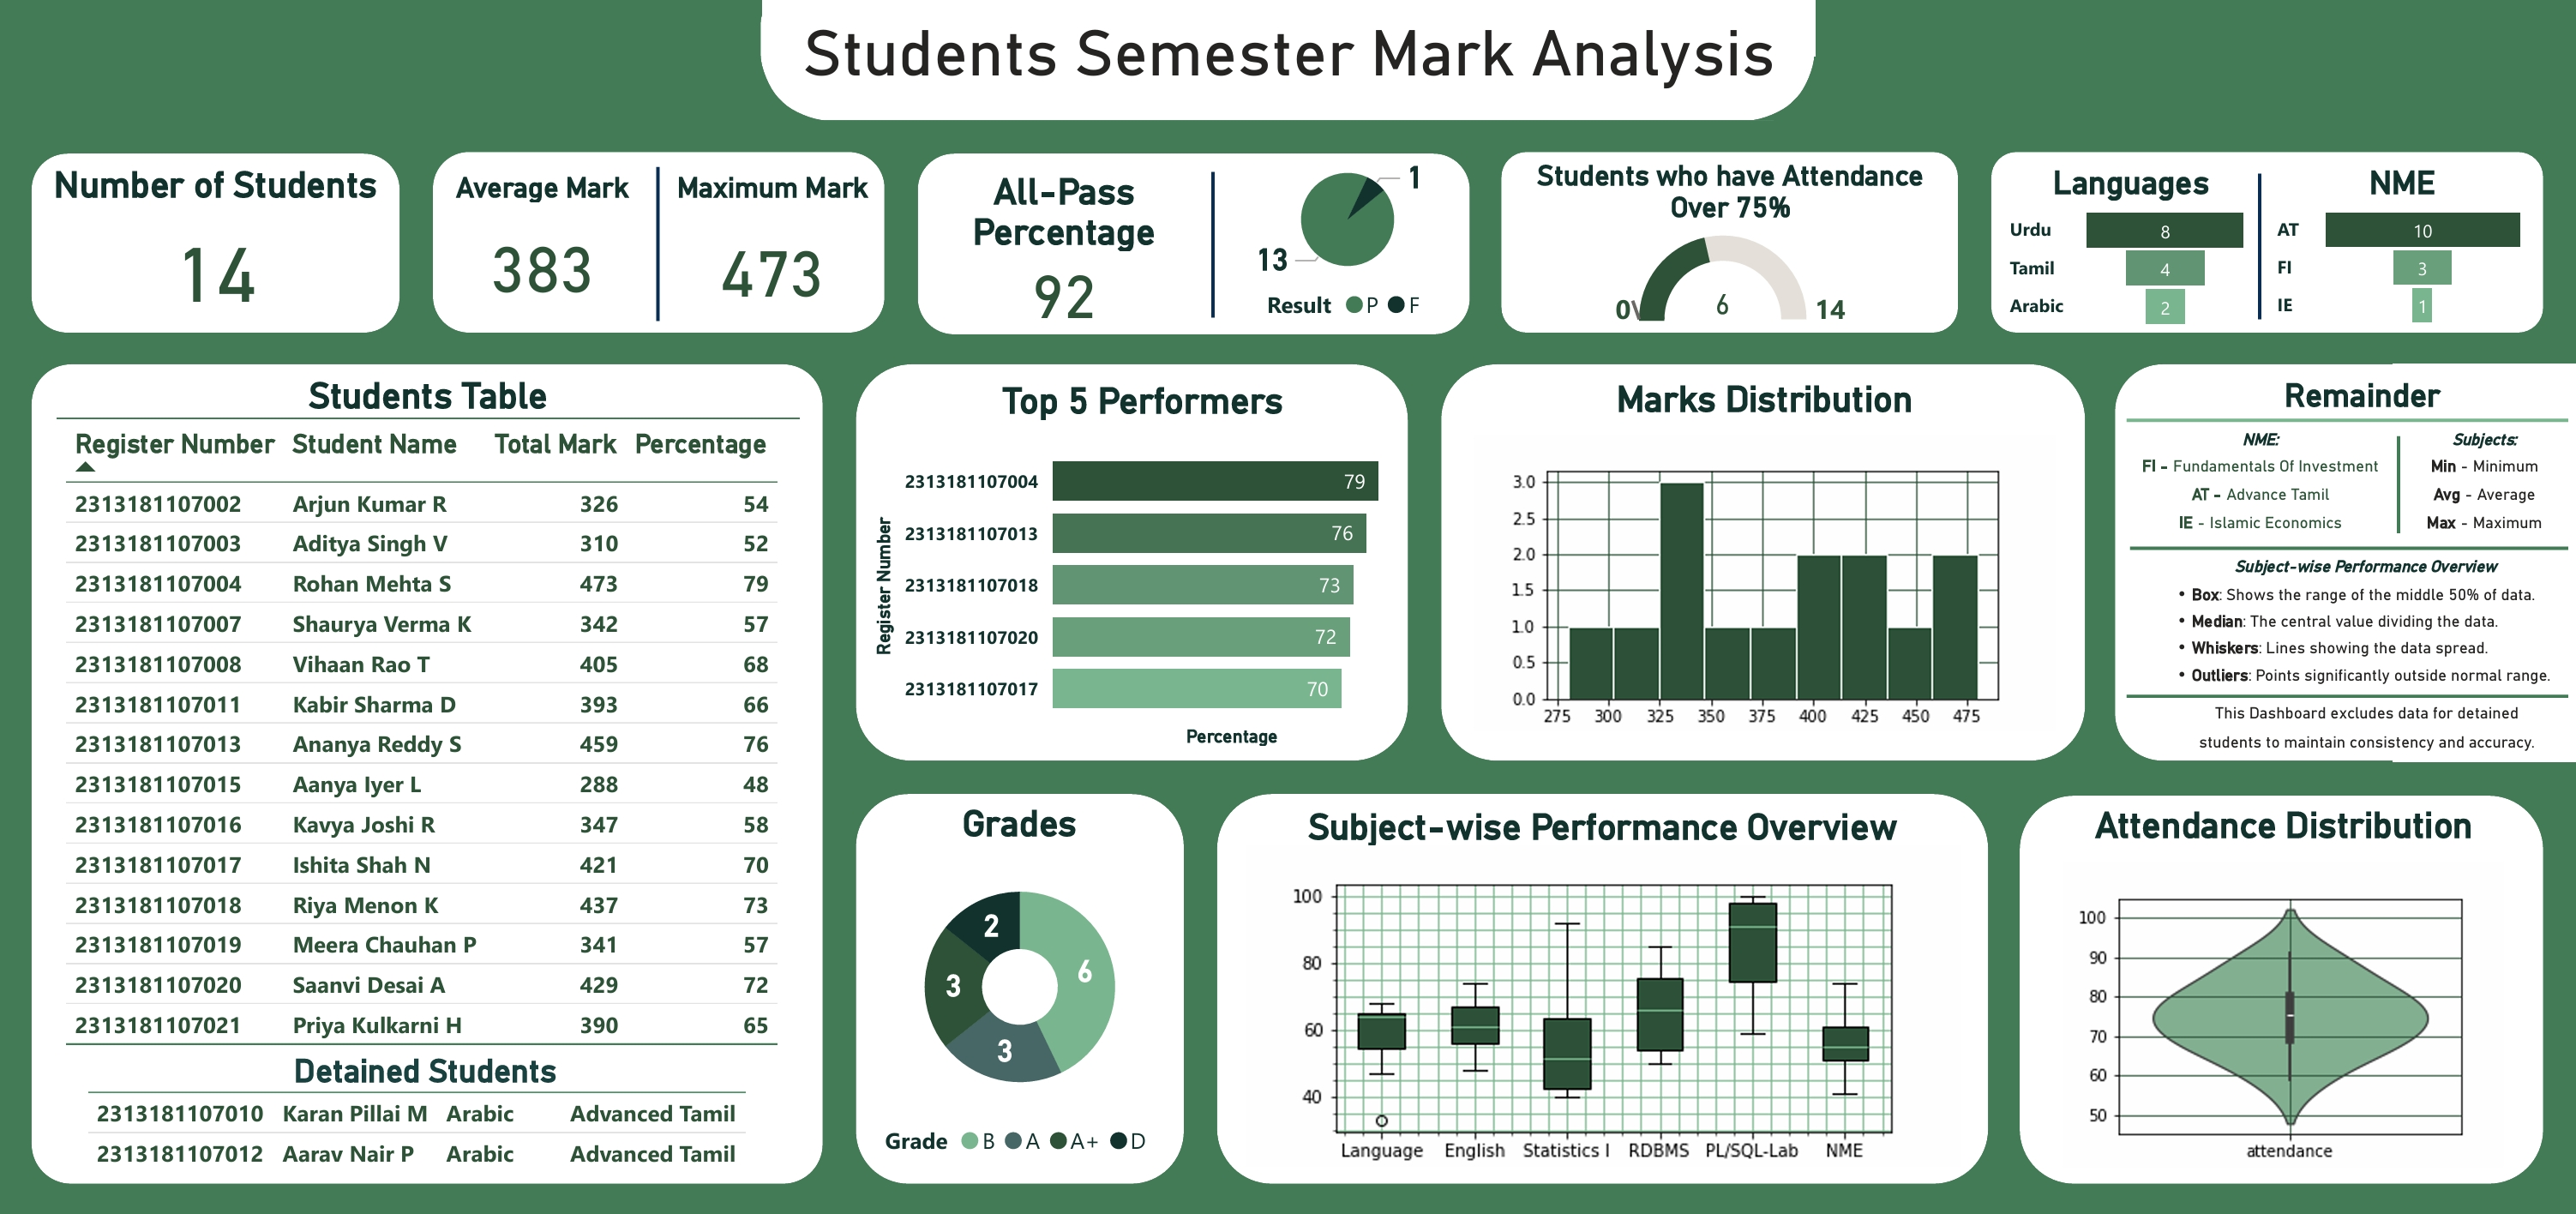

The dashboard page shown, as its layout file describes it:
{"tool":"powerbi","page":{"name":"Page 1","canvas":[1543,730],"ordinal":0},"visuals":[{"type":"gauge","title":"Students who have Attendance Over 75%","fields":{"Y":["mod_std_marks_ds_II.Students_Over_75"]},"box":[898.8,96.2,273.8,106.2],"z":0,"group":"g10"},{"type":"card","title":"Number of Students","fields":{"Values":["CountNonNull(mod_std_marks_ds_II.reg_no)"]},"box":[20.2,99,220,102.5],"z":0,"group":"g13"},{"type":"shape","box":[333.8,100,121.2,93.8],"z":0,"group":"g12"},{"type":"shape","box":[628.7,102.8,195,88.8],"z":0,"group":"g11"},{"type":"shape","box":[1255,103.8,193.8,88.8],"z":0,"group":"g9"},{"type":"tableEx","title":"Students Table","fields":{"Values":["mod_std_marks_ds_II.reg_no","mod_std_marks_ds_II.std_name","Sum(mod_std_marks_ds_II.total_mark)","Sum(mod_std_marks_ds_II.percent)"]},"box":[35,225,443.8,428],"z":0,"group":"g8"},{"type":"pythonVisual","title":"Marks Distribution","fields":{"Values":["mod_std_marks_ds_II.total_mark"]},"box":[860.5,227,387.5,221.2],"z":0,"group":"g5"},{"type":"clusteredBarChart","title":"Top 5 Performers","fields":{"Category":["mod_top_5_std.reg_no"],"Y":["Sum(mod_top_5_std.percent)"]},"box":[514.1,227.5,336.2,228.8],"z":0,"group":"g6"},{"type":"textbox","title":"Remainder","box":[1305.4,411.9,220.9,50],"z":0,"group":"g4"},{"type":"shape","box":[1208.9,476.7,313.3,232.2],"z":0},{"type":"donutChart","title":"Grades","fields":{"Y":["CountNonNull(mod_std_marks_ds_II.grade)"],"Category":["mod_std_marks_ds_II.grade"]},"box":[487.5,481.2,245.6,221.2],"z":0,"group":"g3"},{"type":"pythonVisual","title":"Attendance Distribution","fields":{"Values":["mod_std_marks_ds_II.attendance"]},"box":[1215.9,482.5,296.7,226.7],"z":0,"group":"g1"},{"type":"pythonVisual","title":"Subject-wise Performance Overview","fields":{"Values":["mod_std_marks_ds_II.lang","mod_std_marks_ds_II.eng","mod_std_marks_ds_II.stats_1","mod_std_marks_ds_II.rdbms","mod_std_marks_ds_II.pl_sql_lab","mod_std_marks_ds_II.nme"]},"box":[740.3,483.1,438.8,221.2],"z":0,"group":"g2"},{"type":"tableEx","title":"Detained Students","fields":{"Values":["mod_detained_students.reg_no","mod_detained_students.std_name","mod_detained_students.language","mod_detained_students.Non_Maj_Elec"]},"box":[47.9,613.8,421.2,105],"z":0,"group":"g7"},{"type":"funnel","title":"NME","fields":{"Category":["mod_std_marks_ds_II.Non_Maj_Elec"],"Y":["CountNonNull(mod_std_marks_ds_II.reg_no)"]},"box":[1357.4,99.1,160,102.2],"z":1000,"group":"g9"},{"type":"card","title":"Maximum Mark","fields":{"Values":["mod_std_marks_ds_II.max_mark"]},"box":[396.2,102.5,133.8,97.5],"z":1000,"group":"g12"},{"type":"card","title":"All-Pass                      Percentage","fields":{"Values":["mod_std_marks_ds_II.pass_percent"]},"box":[566.2,102.8,142.5,96.2],"z":1000,"group":"g11"},{"type":"shape","box":[1271.8,398.2,266.4,37.3],"z":1000,"group":"g4"},{"type":"group","id":"g1","title":"Attendance Distribution","box":[1215.9,482.5,296.7,226.7],"z":1000},{"type":"textbox","title":"Detained Students_title","box":[167,625,176.6,32.5],"z":1000,"group":"g7"},{"type":"textbox","title":"Title","box":[470,5,603.8,72.5],"z":2000,"group":"g14"},{"type":"pieChart","title":"Result","fields":{"Category":["mod_std_marks_ds_II.result"],"Y":["CountNonNull(mod_std_marks_ds_II.result)"]},"box":[693.7,91.6,226.2,110],"z":2000,"group":"g11"},{"type":"funnel","title":"Languages","fields":{"Category":["mod_std_marks_ds_II.language"],"Y":["CountNonNull(mod_std_marks_ds_II.reg_no)"]},"box":[1197.5,98.8,155,102.5],"z":2000,"group":"g9"},{"type":"card","title":"Average Mark","fields":{"Values":["mod_std_marks_ds_II.avg_mark"]},"box":[260,102.5,131.2,97.5],"z":2000,"group":"g12"},{"type":"textbox","title":"Subject-wise Performance Overview","box":[1289.1,333.7,253.6,85.5],"z":2000,"group":"g4"},{"type":"shape","box":[728.8,476.2,461.2,232.5],"z":2000},{"type":"shape","box":[1273.6,315.5,264.5,26.4],"z":3000,"group":"g4"},{"type":"group","id":"g2","title":"Subjects Min, Avg and Max","box":[740.3,483.1,438.8,221.2],"z":3000},{"type":"shape","box":[1414.5,260.9,40.9,60],"z":4000,"group":"g4"},{"type":"shape","box":[512.5,476.2,196.2,232.5],"z":4000},{"type":"textbox","title":"Subjects:","box":[1435.6,257.4,102.2,80],"z":5000,"group":"g4"},{"type":"group","id":"g3","title":"Grades","box":[487.5,481.2,247.5,221.2],"z":5000},{"type":"shape","box":[1432.2,218.9,111.1,237.8],"z":6000},{"type":"textbox","title":"NME:","box":[1272.3,257.4,160,82.2],"z":6000,"group":"g4"},{"type":"shape","box":[1272.2,206.7,265.6,91.1],"z":7000,"group":"g4"},{"type":"shape","box":[1266.4,219.1,275.5,237.3],"z":7000},{"type":"group","id":"g4","title":"Remainder","box":[1271.8,206.7,270.9,255.2],"z":8000},{"type":"textbox","title":"Remainder","box":[1306,226,216,58],"z":8000,"group":"g4"},{"type":"shape","box":[862.5,218.8,385,237.5],"z":9000},{"type":"group","id":"g5","title":"Marks Distribution","box":[860.5,227,387.5,221.2],"z":10000},{"type":"shape","box":[512.5,218.8,330,237.5],"z":11000},{"type":"group","id":"g6","title":"Top 5 Performers","box":[514.1,227.5,336.2,228.8],"z":12000},{"type":"shape","box":[20,218.8,472.5,490],"z":13000},{"type":"group","id":"g7","title":"Detained Students","box":[47.9,613.8,421.2,105],"z":14000},{"type":"group","id":"g8","title":"Students_Table","box":[35,225,443.8,428.8],"z":15000},{"type":"shape","box":[1192.2,92.2,330,107.8],"z":16000},{"type":"group","id":"g9","title":"Language and NME","box":[1197.5,98.8,320,102.5],"z":17000},{"type":"shape","box":[898.9,92.2,273.3,107.8],"z":18000},{"type":"group","id":"g10","title":"Students who have Attendance Over 75%","box":[898.8,96.2,273.8,106.2],"z":19000},{"type":"shape","box":[550,92.5,330,108.8],"z":20000},{"type":"group","id":"g11","title":"Result","box":[566.2,91.6,353.8,110],"z":21000},{"type":"shape","box":[260,92.2,270,107.8],"z":22000},{"type":"group","id":"g12","title":"Avg_Max_Card","box":[260,100,270,100],"z":23000},{"type":"shape","box":[20,92.5,220,107.5],"z":24000},{"type":"group","id":"g13","title":"Number of Students","box":[20.2,99,220,102.5],"z":25000},{"type":"shape","box":[456.5,0,630,35],"z":26000},{"type":"shape","box":[456.2,0,630,72.5],"z":27000},{"type":"group","id":"g14","title":"Title","box":[470,5,603.8,72.5],"z":28000}]}

Visuals, with their boxes in screenshot pixels (x1, y1, x2, y2), scaled from the page's 1543x730 canvas onto the 2576x1214 screenshot:
"Students who have Attendance Over 75%" gauge: [left=1500, top=160, right=1958, bottom=337]
"Number of Students" card: [left=33, top=165, right=401, bottom=335]
shape: [left=557, top=166, right=760, bottom=322]
shape: [left=1049, top=171, right=1375, bottom=319]
shape: [left=2095, top=172, right=2419, bottom=321]
"Students Table" tableEx: [left=58, top=374, right=799, bottom=1086]
"Marks Distribution" pythonVisual: [left=1437, top=377, right=2083, bottom=745]
"Top 5 Performers" clusteredBarChart: [left=858, top=378, right=1420, bottom=759]
"Remainder" textbox: [left=2179, top=685, right=2548, bottom=768]
shape: [left=2018, top=793, right=2541, bottom=1179]
"Grades" donutChart: [left=814, top=800, right=1224, bottom=1168]
"Attendance Distribution" pythonVisual: [left=2030, top=802, right=2525, bottom=1180]
"Subject-wise Performance Overview" pythonVisual: [left=1236, top=803, right=1968, bottom=1171]
"Detained Students" tableEx: [left=80, top=1021, right=784, bottom=1195]
"NME" funnel: [left=2267, top=165, right=2533, bottom=334]
"Maximum Mark" card: [left=662, top=171, right=885, bottom=333]
"All-Pass                      Percentage" card: [left=946, top=171, right=1183, bottom=331]
shape: [left=2123, top=662, right=2568, bottom=724]
"Attendance Distribution" group: [left=2030, top=802, right=2525, bottom=1180]
"Detained Students_title" textbox: [left=279, top=1039, right=573, bottom=1093]
"Title" textbox: [left=784, top=9, right=1792, bottom=129]
"Result" pieChart: [left=1158, top=153, right=1536, bottom=335]
"Languages" funnel: [left=1999, top=165, right=2258, bottom=334]
"Average Mark" card: [left=434, top=171, right=653, bottom=333]
"Subject-wise Performance Overview" textbox: [left=2153, top=555, right=2575, bottom=697]
shape: [left=1216, top=792, right=1987, bottom=1179]
shape: [left=2126, top=525, right=2567, bottom=568]
"Subjects Min, Avg and Max" group: [left=1236, top=803, right=1968, bottom=1171]
shape: [left=2362, top=434, right=2429, bottom=533]
shape: [left=856, top=792, right=1183, bottom=1179]
"Subjects:" textbox: [left=2397, top=428, right=2567, bottom=561]
"Grades" group: [left=814, top=800, right=1227, bottom=1168]
shape: [left=2391, top=364, right=2575, bottom=760]
"NME:" textbox: [left=2124, top=428, right=2391, bottom=565]
shape: [left=2124, top=344, right=2567, bottom=496]
shape: [left=2114, top=364, right=2574, bottom=759]
"Remainder" group: [left=2123, top=344, right=2575, bottom=768]
"Remainder" textbox: [left=2180, top=376, right=2541, bottom=472]
shape: [left=1440, top=364, right=2083, bottom=759]
"Marks Distribution" group: [left=1437, top=377, right=2083, bottom=745]
shape: [left=856, top=364, right=1407, bottom=759]
"Top 5 Performers" group: [left=858, top=378, right=1420, bottom=759]
shape: [left=33, top=364, right=822, bottom=1179]
"Detained Students" group: [left=80, top=1021, right=784, bottom=1195]
"Students_Table" group: [left=58, top=374, right=799, bottom=1087]
shape: [left=1991, top=153, right=2541, bottom=333]
"Language and NME" group: [left=1999, top=165, right=2533, bottom=334]
shape: [left=1501, top=153, right=1957, bottom=333]
"Students who have Attendance Over 75%" group: [left=1500, top=160, right=1958, bottom=337]
shape: [left=918, top=153, right=1469, bottom=334]
"Result" group: [left=946, top=153, right=1536, bottom=335]
shape: [left=434, top=153, right=885, bottom=333]
"Avg_Max_Card" group: [left=434, top=166, right=885, bottom=333]
shape: [left=33, top=153, right=400, bottom=333]
"Number of Students" group: [left=33, top=165, right=401, bottom=335]
shape: [left=762, top=0, right=1814, bottom=58]
shape: [left=761, top=0, right=1813, bottom=121]
"Title" group: [left=784, top=9, right=1792, bottom=129]
